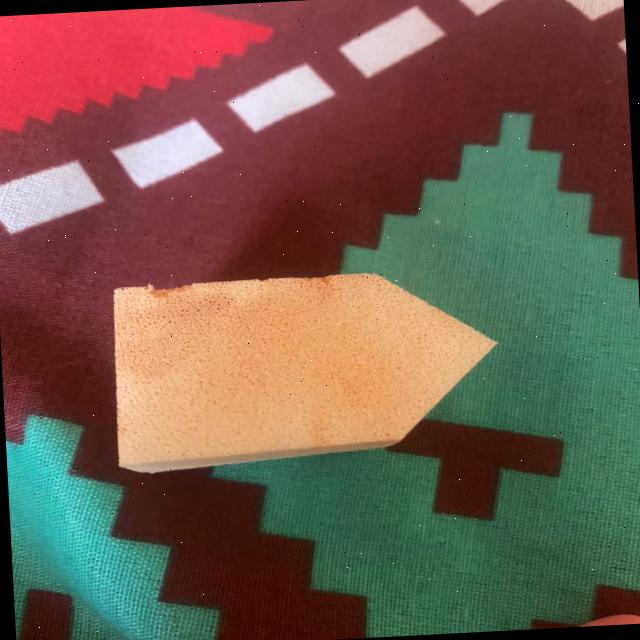beauty blender: (82, 250, 512, 484)
